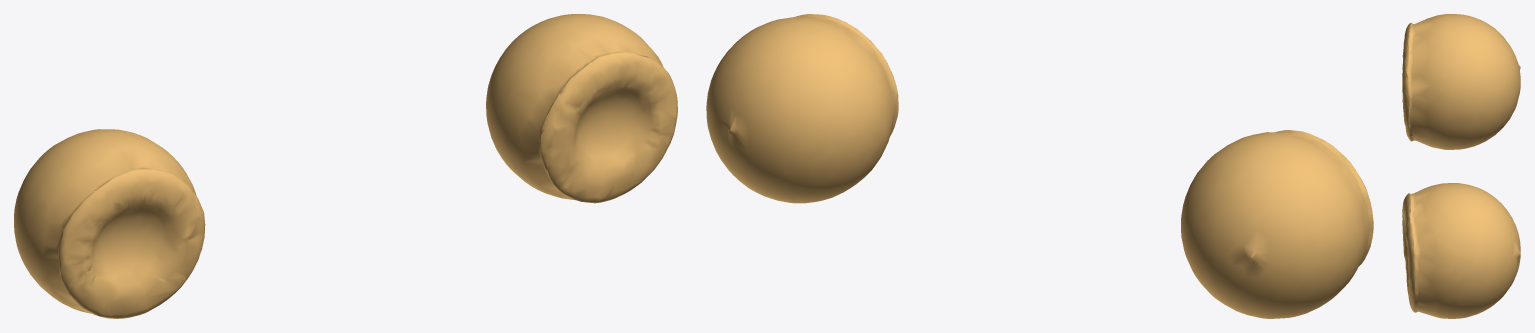
Rendered from corpo-vitreo.glb.
3 renders of one model, left to right at view 1: azimuth 30°, elevation 25°; view 2: azimuth 150°, elevation 25°; view 3: azimuth 270°, elevation 25°, orthographic. The views are drawn at different scales.
Parts seen in each view (by area): view 1: corpo-vitreo; view 2: corpo-vitreo; view 3: corpo-vitreo.
Part boxes in pixels (x1,y1,x2,y2): corpo-vitreo: (14, 14, 677, 318); corpo-vitreo: (706, 14, 1373, 318); corpo-vitreo: (1402, 14, 1520, 318).
Size of the model in its own units: 0.08 by 0.0203 by 0.0177.
